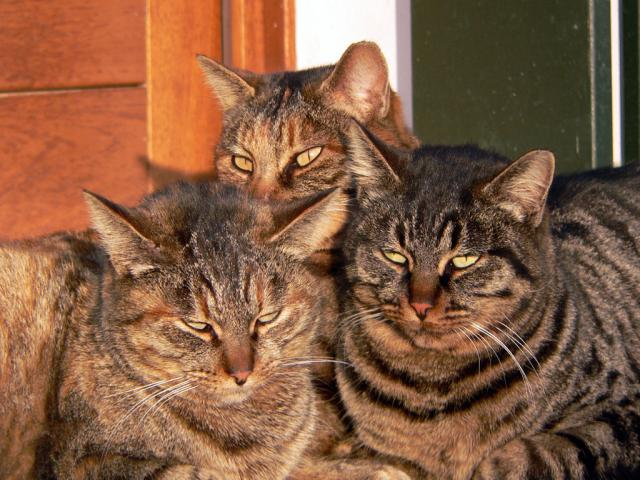Cat: (330, 113, 640, 480), (0, 173, 349, 479), (189, 42, 418, 480)
